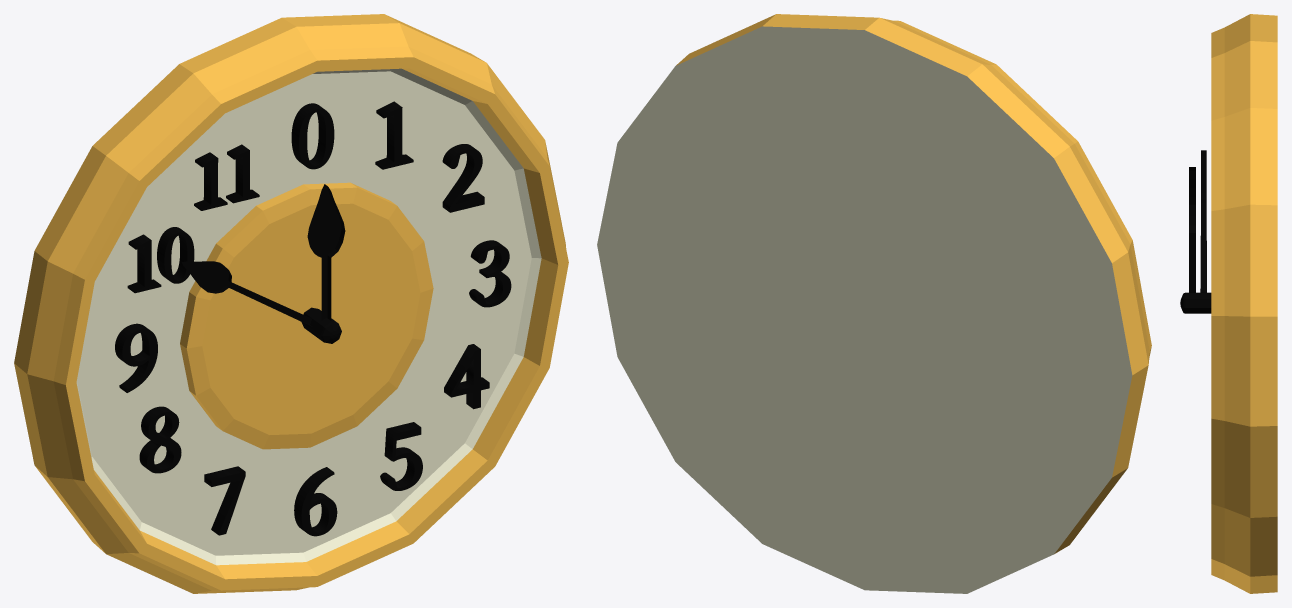
Rendered from theme02_wallclock01.fbx.
3 views of the same model, side by side, from view 1: azimuth 30°, elevation 25°; view 2: azimuth 150°, elevation 25°; view 3: azimuth 270°, elevation 25° (orthographic). The views are drawn at different scales.
Parts seen in each view (by area): view 1: CLOCK01.002; view 2: CLOCK01.002; view 3: CLOCK01.002.
Part boxes in pixels (x1,y1,x2,y2): CLOCK01.002: (14,14,568,593); CLOCK01.002: (597,14,1151,593); CLOCK01.002: (1180,14,1277,593).
Bounding box in the file's own units: 93.24 × 93.24 × 15.66.
